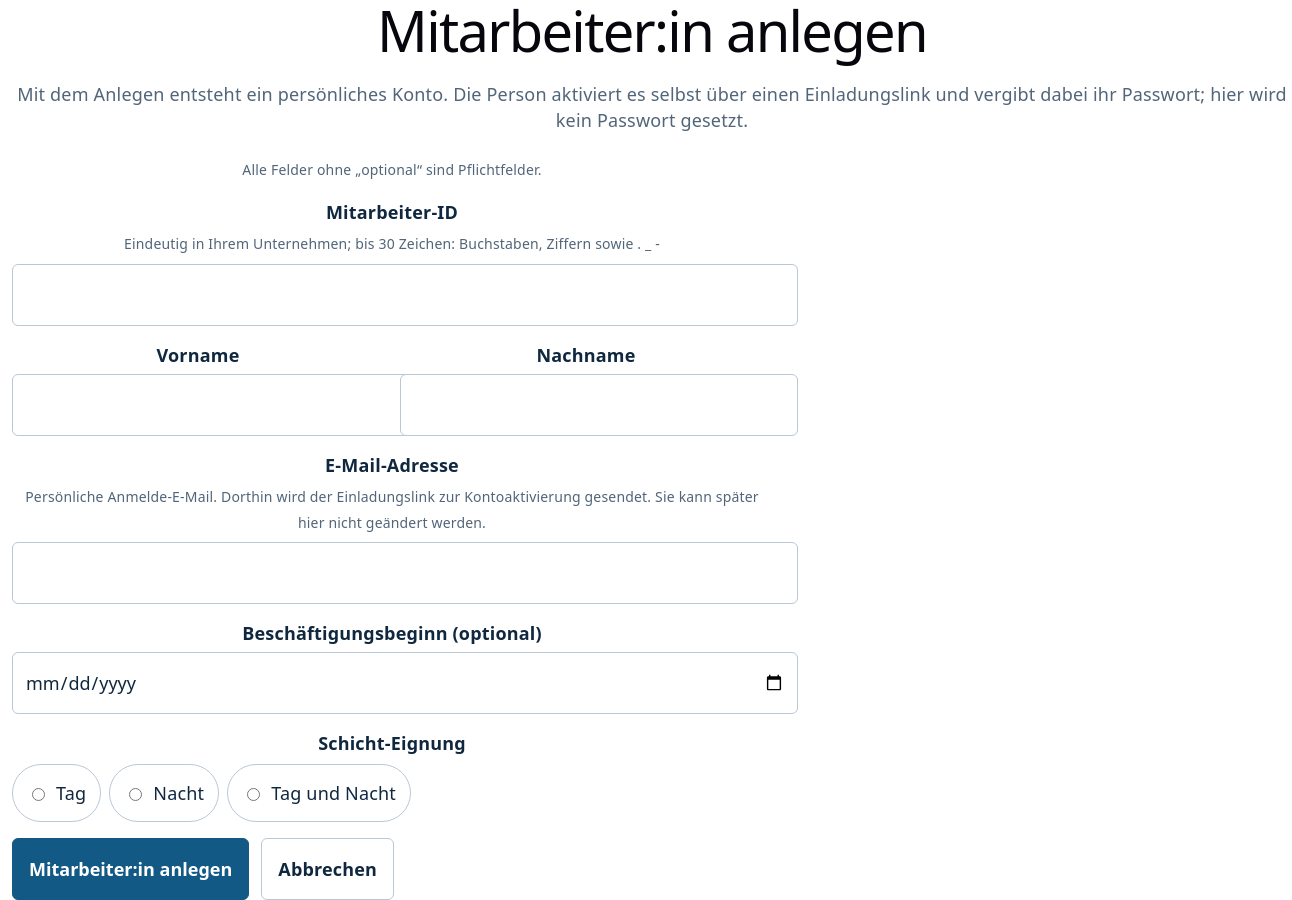
SP-07 — create employee › validates on the client first: no request, errors linked to their fields, focus on the first one
(page scrolled)
Click the button "Mitarbeiter:in anlegen": (131, 869) top-left (12, 838), bottom-right (249, 899)
(page scrolled)
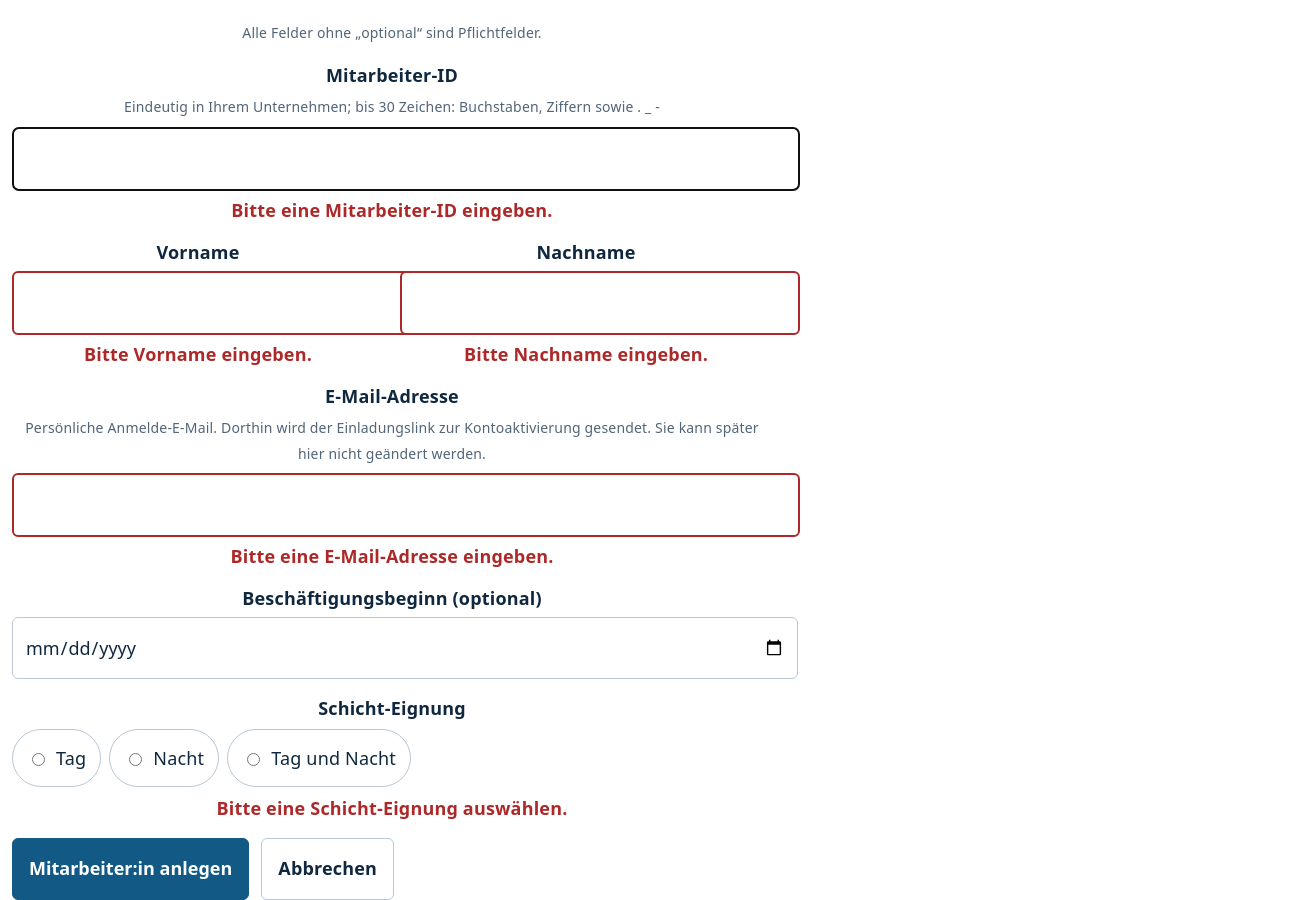
Expected: the text "Bitte eine Mitarbeiter-ID eingeben." is shown, top-left (231, 198), bottom-right (553, 222)
Expected: the text "Bitte eine Schicht-Eignung auswählen." is shown, top-left (216, 796), bottom-right (568, 820)
